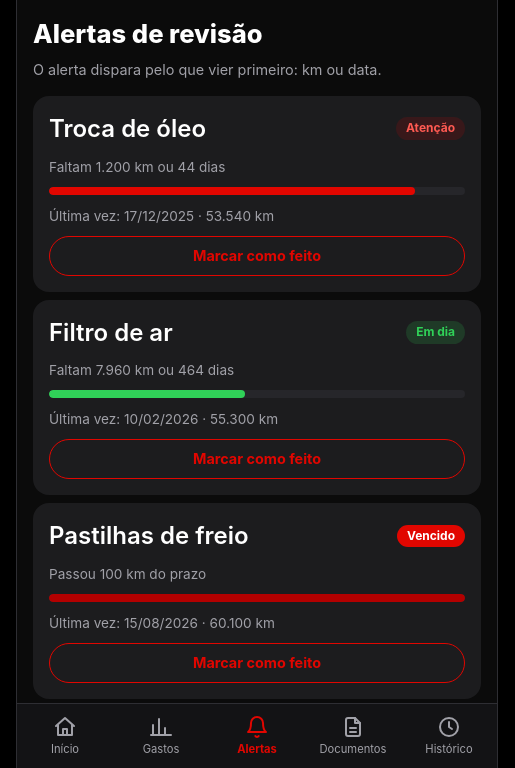
Test case: T05 · Alertas de revisão › "Marcar como feito" registra o serviço e recarrega os alertas
The width and height of the screenshot is (515, 768).
Click the button "Marcar como feito" below "Troca de óleo" at [257, 256], box [49,236,465,276]
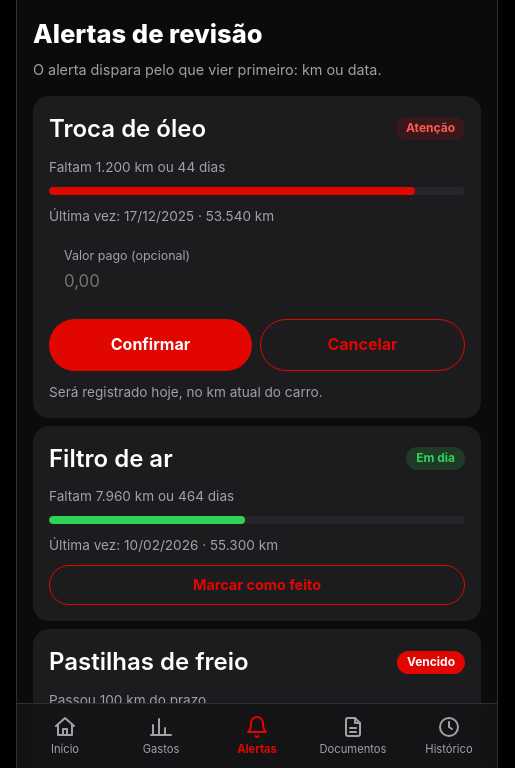
Type "230,00" into the field labelled "Valor pago (opcional)" at [257, 282], box [64,266,450,298]
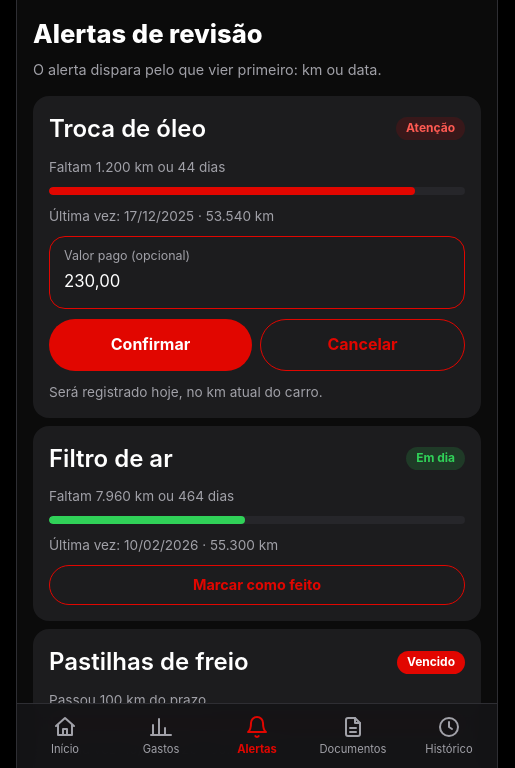
Click the button "Confirmar" at [150, 345], box [49,319,252,371]
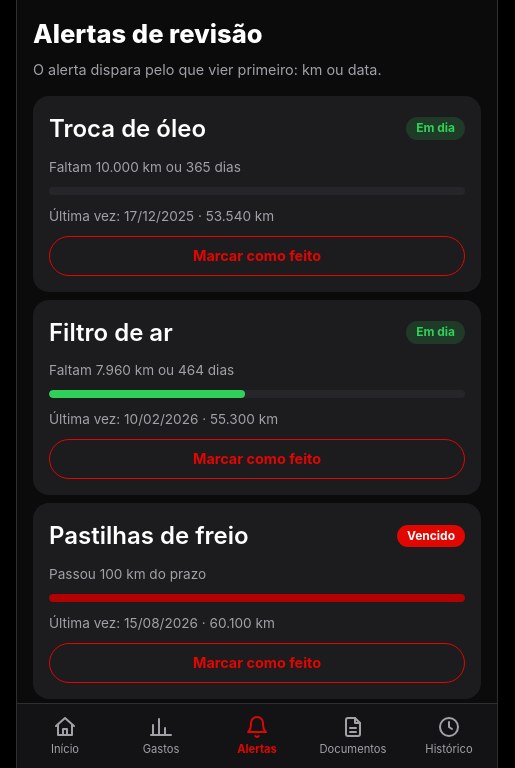
Result: the text "Faltam 10.000 km ou 365 dias" is shown at [49,159,241,175]
